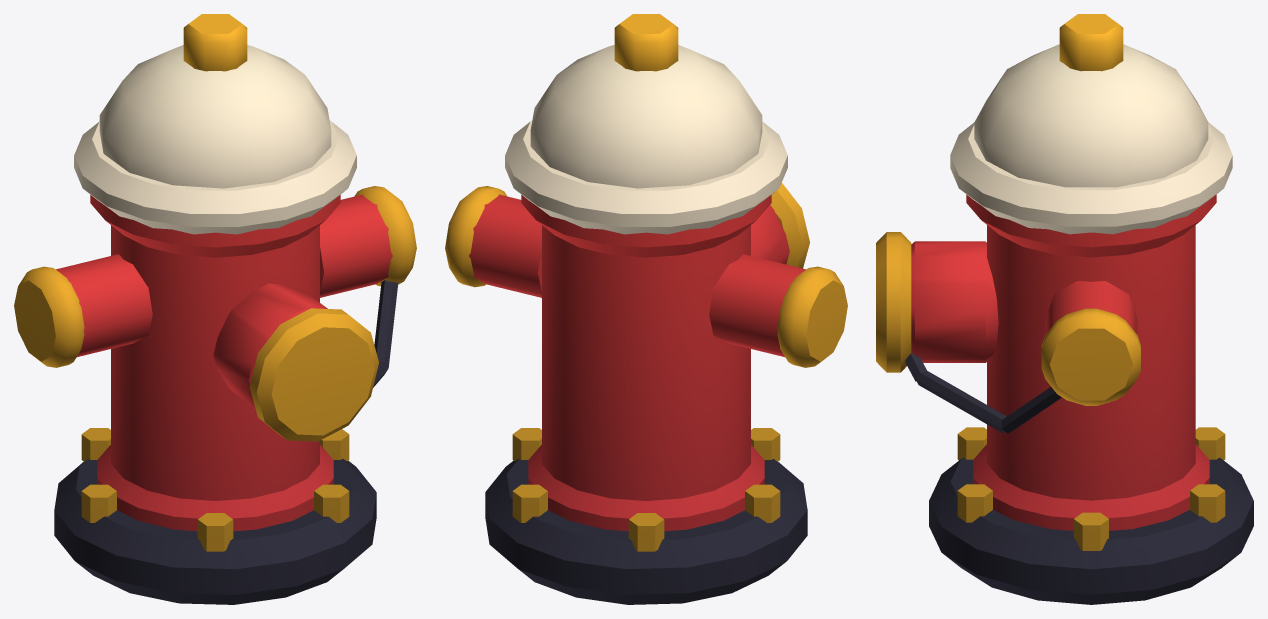
Rendered from hydrant.glb.
3 views of the same model, side by side, from view 1: azimuth 30°, elevation 25°; view 2: azimuth 150°, elevation 25°; view 3: azimuth 270°, elevation 25° (orthographic).
Visible parts, largest first — view 1: hydrant; view 2: hydrant; view 3: hydrant.
Boxes of the visible parts, x1,y1,x2,y2 form: hydrant: (14, 14, 416, 604); hydrant: (445, 14, 847, 604); hydrant: (876, 14, 1253, 604).
Bounding box in the file's own units: 0.59 × 0.815 × 0.535.
